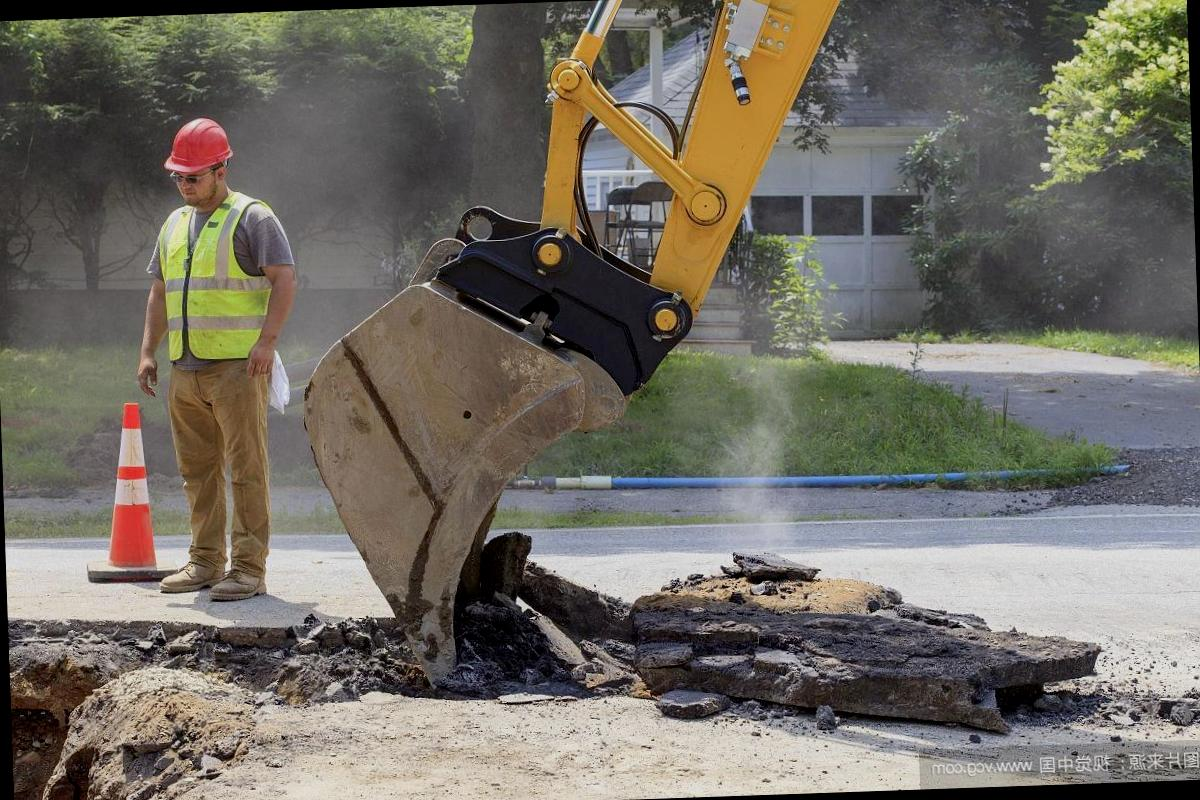helmet: (159, 112, 238, 178)
person: (122, 110, 310, 602)
